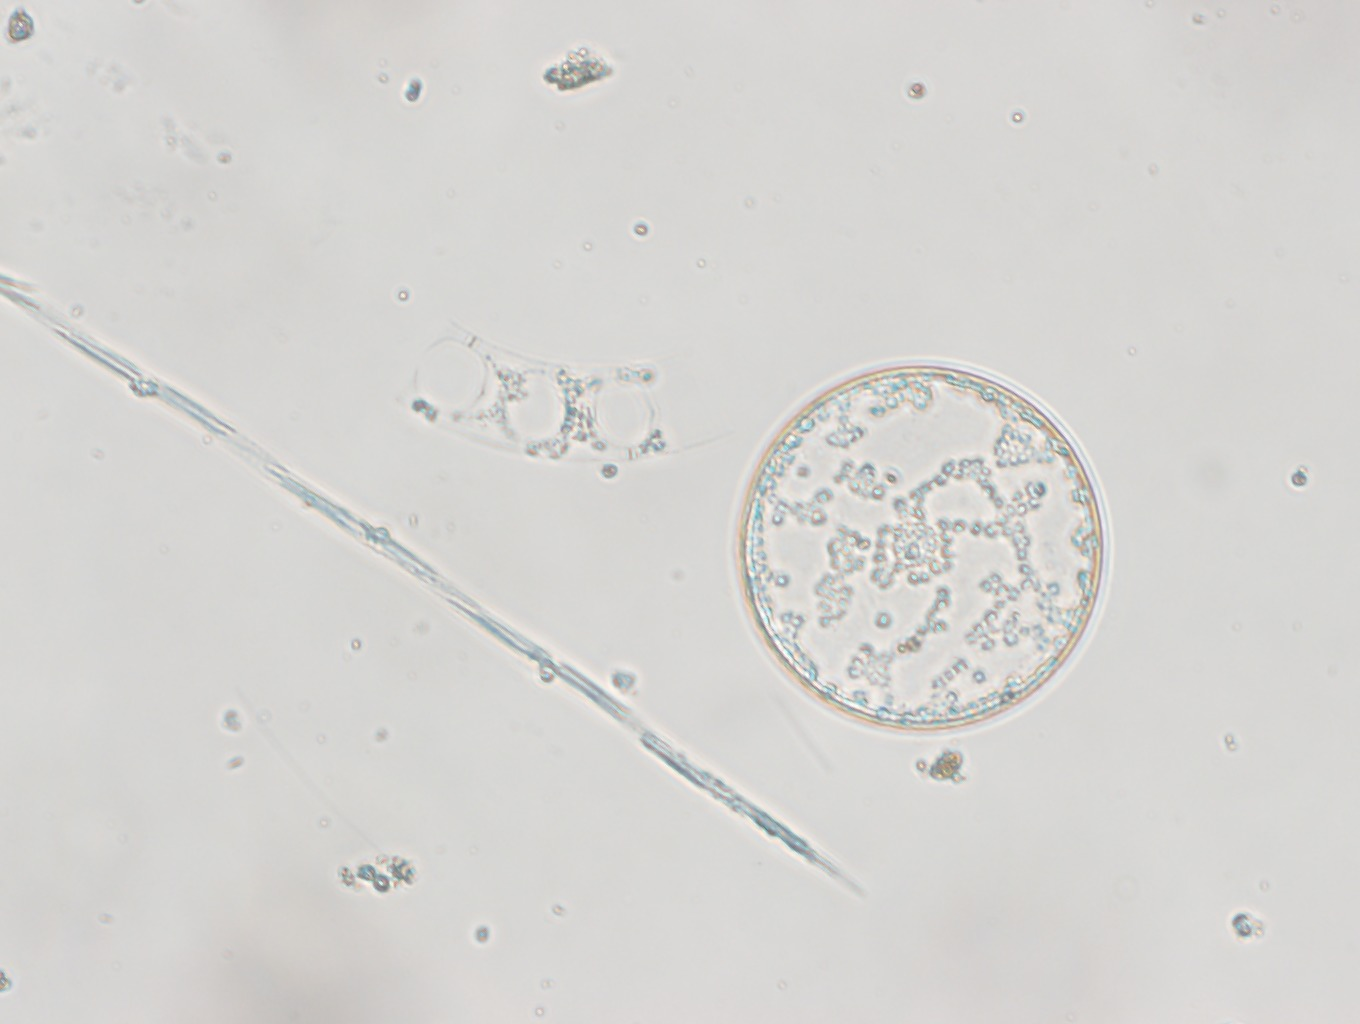coscinodiscus: (735, 356, 1117, 745)
eucampia: (383, 317, 679, 474)
